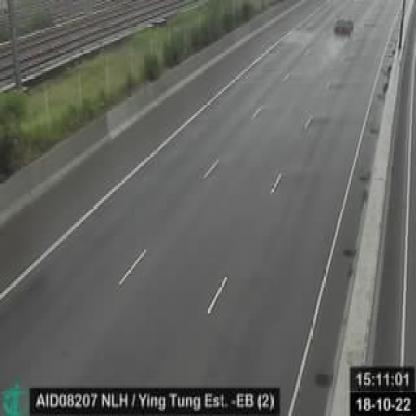Car: (333, 15, 354, 38)
